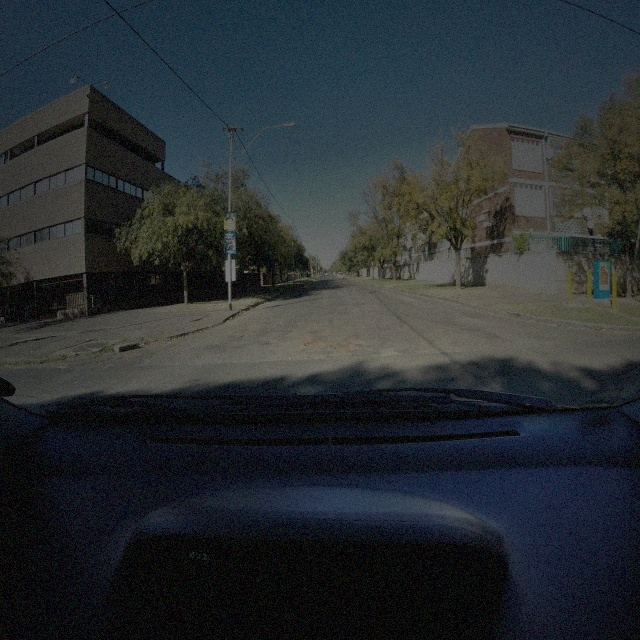pothole: (336, 342, 356, 354), (305, 337, 324, 349), (240, 332, 253, 340)
